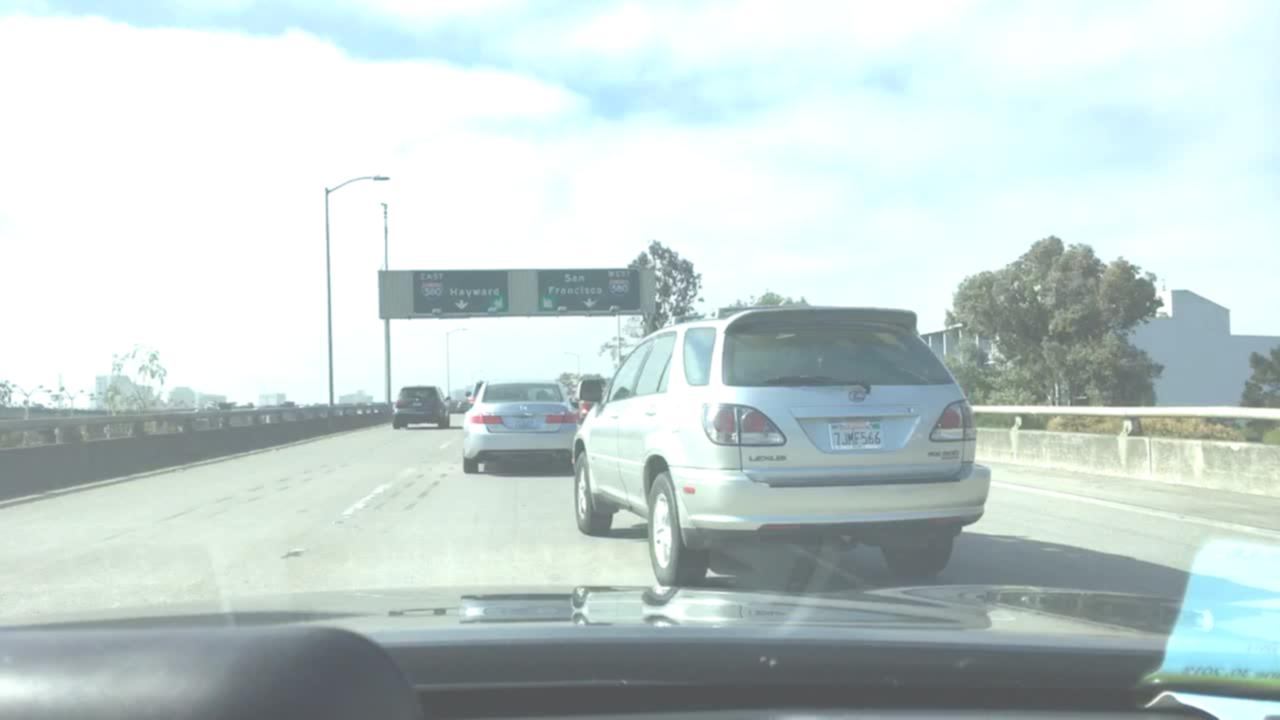lexus: (844, 382, 869, 408)
